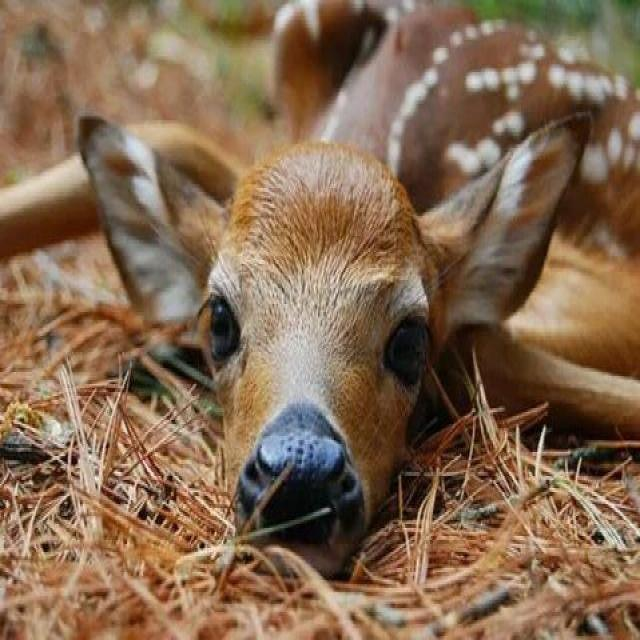deer: (126, 90, 585, 555)
